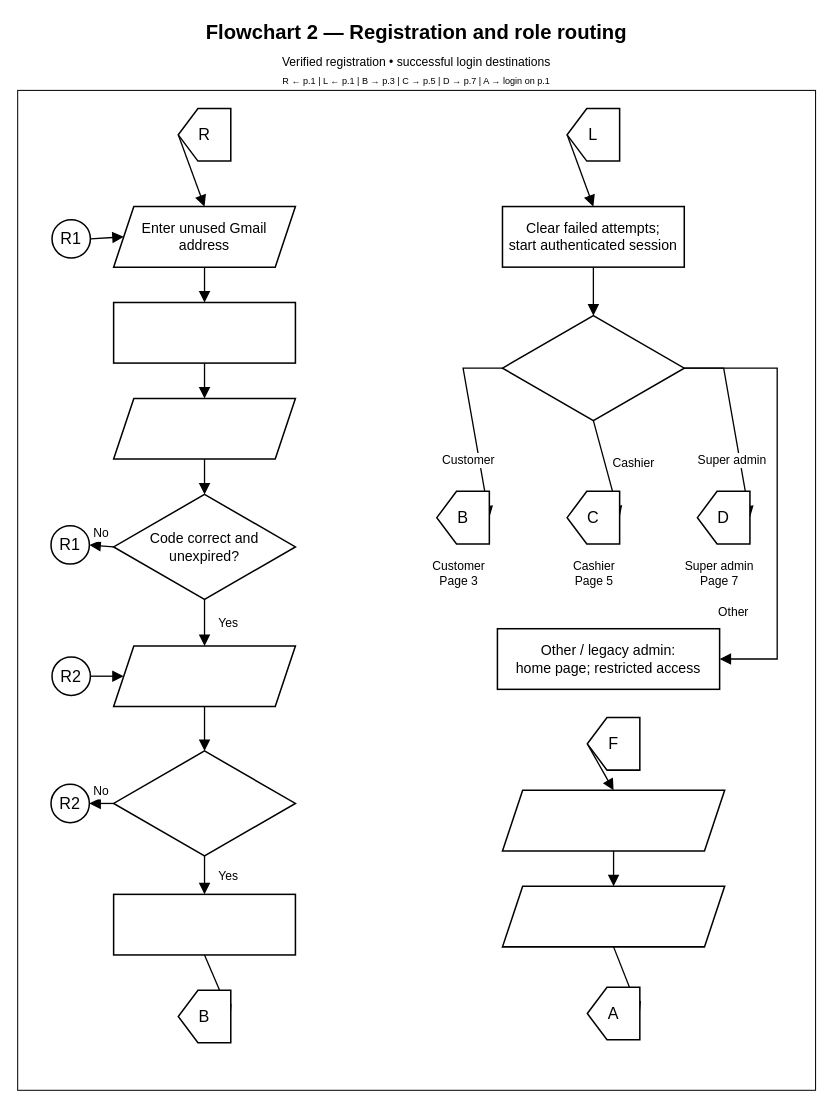
This 833x1108 diagram has some shape labels left out. Here are the shapes that lost their labels. From the top down, the centre of each, then its label:
At (x=204, y=332): "Send verification code".
At (x=593, y=367): "Account role?".
At (x=204, y=428): "Enter six-digit code".
At (x=204, y=676): "Enter account details and confirm password".
At (x=204, y=803): "Details valid and verified email matches?".
At (x=613, y=820): "Request reset email; open link".
At (x=204, y=924): "Create customer account and sign in".
At (x=613, y=916): "Submit valid token and new confirmed password".
